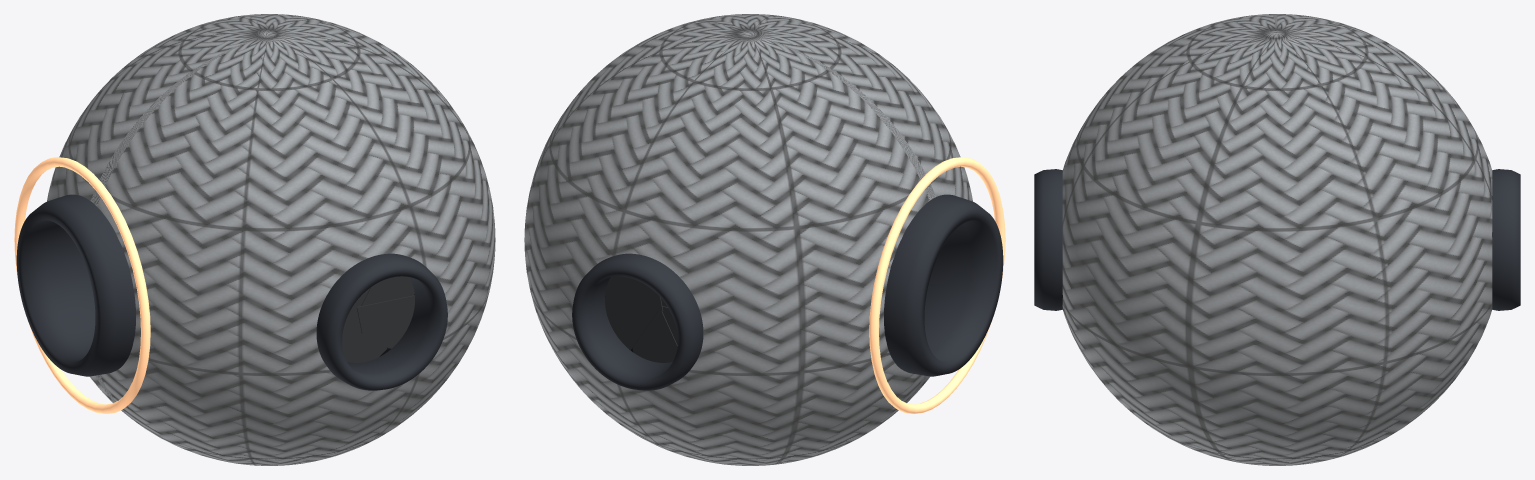
The model's file is mine.glb.
The picture shows the model from 3 angles, left to right: view 1: azimuth 30°, elevation 25°; view 2: azimuth 150°, elevation 25°; view 3: azimuth 270°, elevation 25°; orthographic projection.
Parts seen in each view (by area): view 1: MineBody, MineBoreCuff, MineStarboardCuff, MineBoreAccent, MineStarboardIris.000, MineStarboardIris.005, MineStarboardIris.001; view 2: MineBody, MineBoreCuff, MinePortCuff, MineBoreAccent, MinePortIris.001, MinePortIris.002, MinePortIris.000; view 3: MineBody, MinePortCuff, MineStarboardCuff.
Part boxes in pixels (<box>): MineBody: <box>47,14,495,465</box>; MineBoreCuff: <box>16,194,135,376</box>; MineStarboardCuff: <box>316,253,447,390</box>; MineBoreAccent: <box>14,157,150,414</box>; MineStarboardIris.000: <box>356,295,414,348</box>; MineStarboardIris.005: <box>342,316,387,362</box>; MineStarboardIris.001: <box>361,276,414,306</box>; MineBody: <box>524,14,972,465</box>; MineBoreCuff: <box>884,194,1003,376</box>; MinePortCuff: <box>572,253,703,390</box>; MineBoreAccent: <box>869,157,1005,414</box>; MinePortIris.001: <box>605,296,657,349</box>; MinePortIris.002: <box>632,311,677,362</box>; MinePortIris.000: <box>605,276,663,311</box>; MineBody: <box>1062,14,1492,465</box>; MinePortCuff: <box>1492,169,1520,310</box>; MineStarboardCuff: <box>1034,169,1062,310</box>.
Size of the model in its own units: 2.08 by 2 by 2.15.
5 materials, 2 textured.
